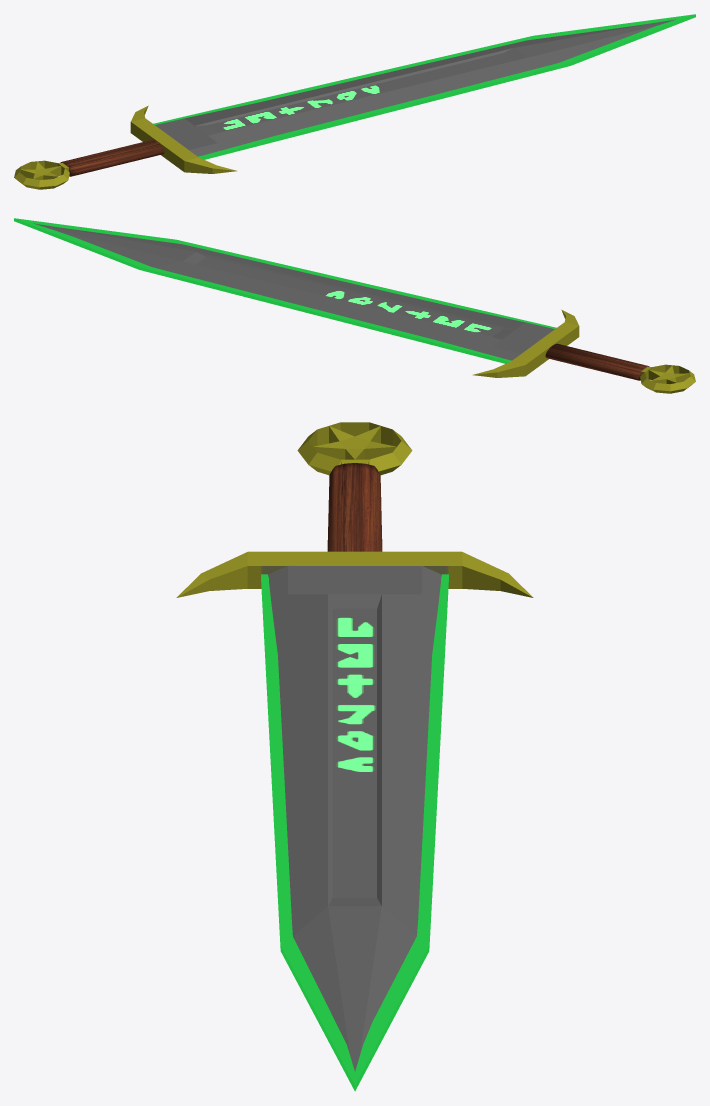
File: sword_broadsword_green.glb
The picture shows the model from 3 angles, top to bottom: view 1: azimuth 30°, elevation 25°; view 2: azimuth 150°, elevation 25°; view 3: azimuth 270°, elevation 25°; orthographic projection. The views are drawn at different scales.
Parts seen in each view (by area): view 1: Blade.Green; view 2: Blade.Green; view 3: Blade.Green.
Boxes of the visible parts, x1=… form: Blade.Green: x1=14, y1=14, x2=695, y2=189; Blade.Green: x1=14, y1=218, x2=695, y2=393; Blade.Green: x1=176, y1=422, x2=533, y2=1091.
Bounding box in the file's own units: 1.17 × 0.0188 × 0.2667.
1 material, 1 textured.
